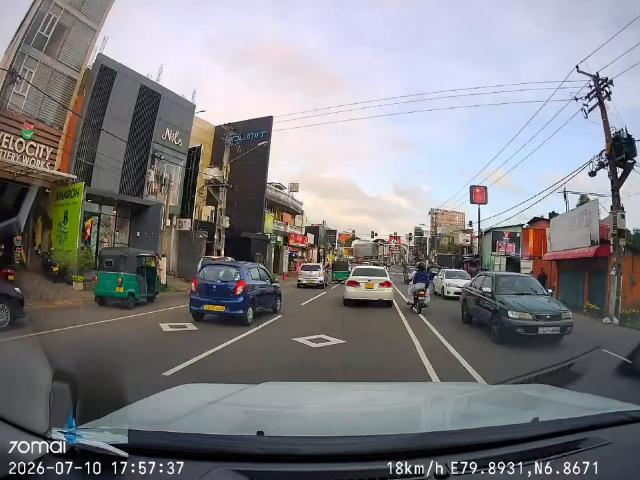illegal overtaking: (410, 263, 437, 321)
